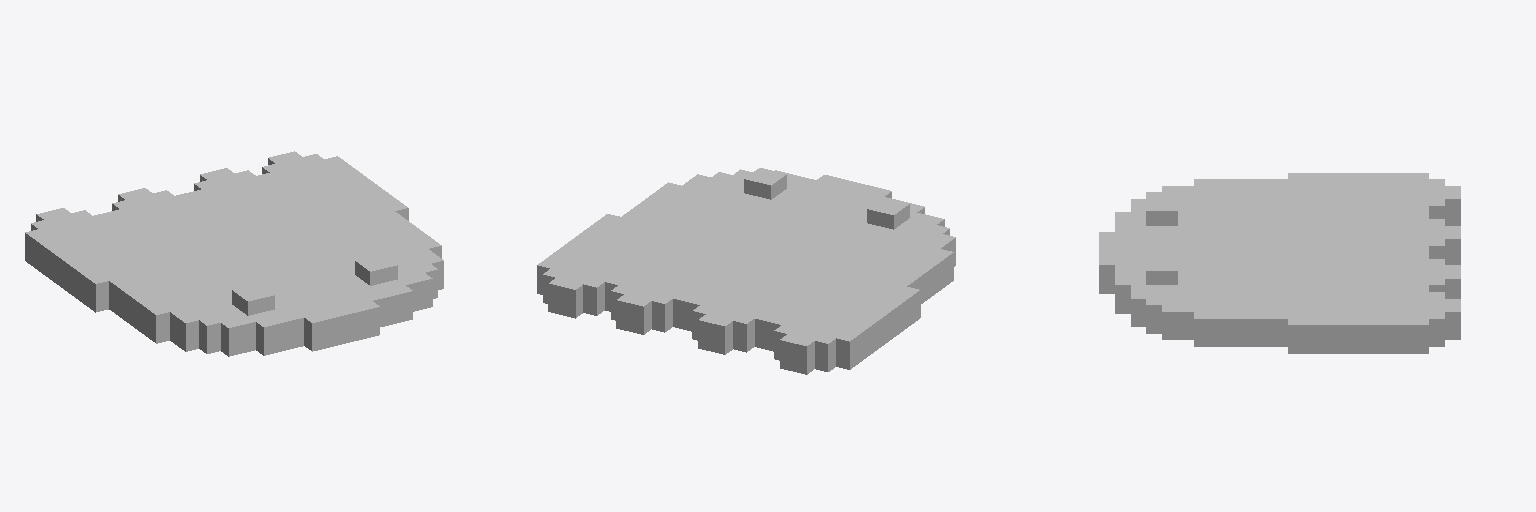
Rendered from Ghost Up.obj.
The picture shows the model from 3 angles: view 1: azimuth 30°, elevation 25°; view 2: azimuth 150°, elevation 25°; view 3: azimuth 270°, elevation 25°; orthographic projection.
Bounding box in the file's own units: 23 × 3 × 23.